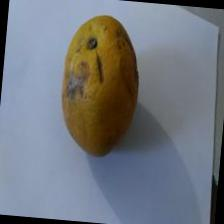Orange Rotten: (49, 7, 157, 176)
